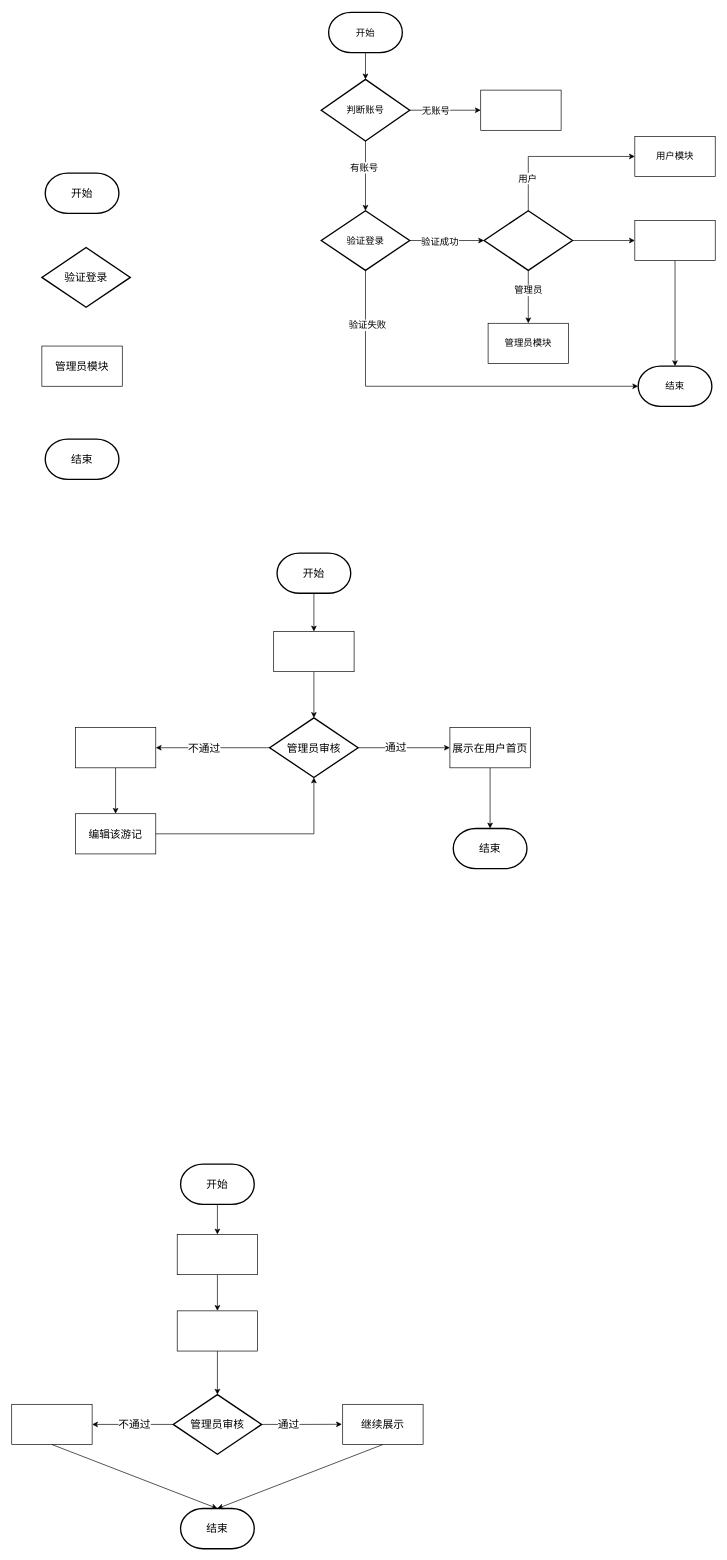
Some shapes in this 727 by 1560 pixel diagram are drawn without their labels. Here are the shapes that lost their labels. From the top down, the box of each, then its label:
(480, 89, 561, 130): 注册账号
(483, 210, 573, 271): 选择身份
(634, 220, 715, 261): 进入系统
(273, 631, 354, 672): 新增旅游规划 （游记）
(75, 727, 156, 768): 只保存在“我的游记”模块
(177, 1234, 258, 1275): 进入游记内容
(177, 1310, 258, 1351): 评论
(11, 1404, 92, 1445): 删除
